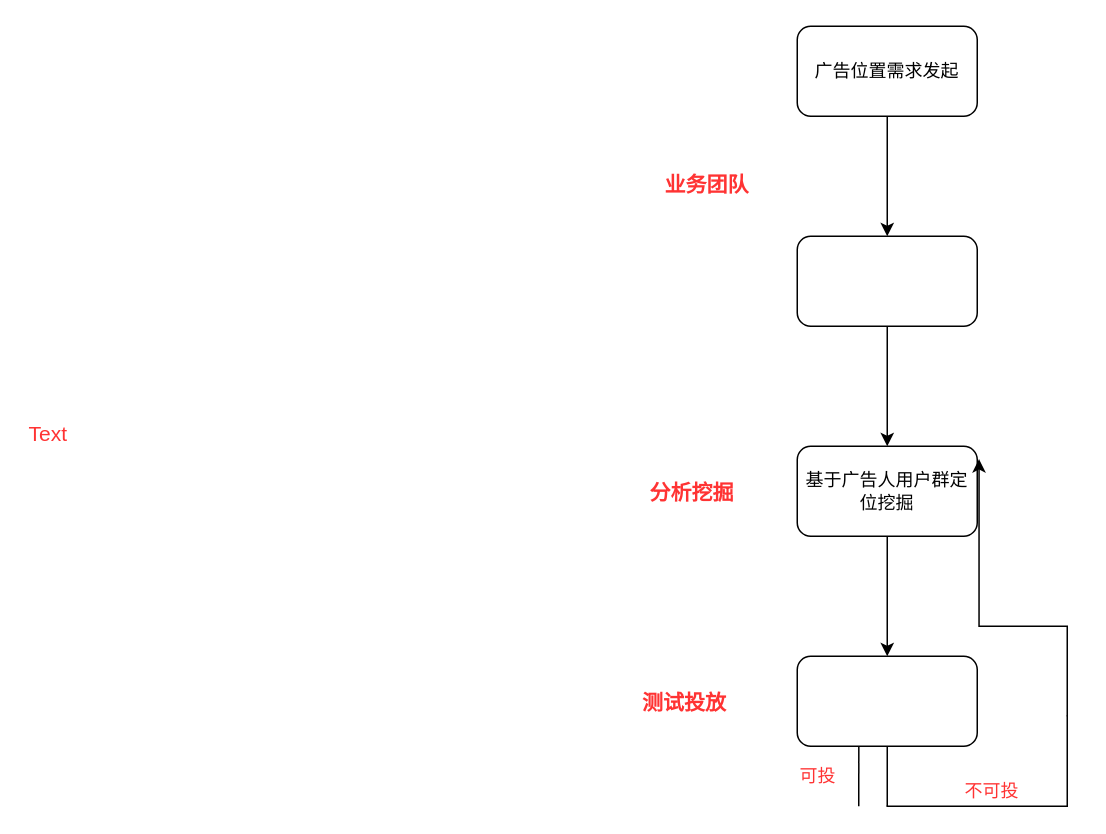
The diagram is 1106 pixels wide and 834 high, and some of its shapes have lost their labels. The shapes that lost their labels are listed below. From the top down, each one's centre as x and y in pixels, then its label:
At (886,280): "上游资源池初步匹配线索分析".
At (886,700): "广告位置审核是否可投".
